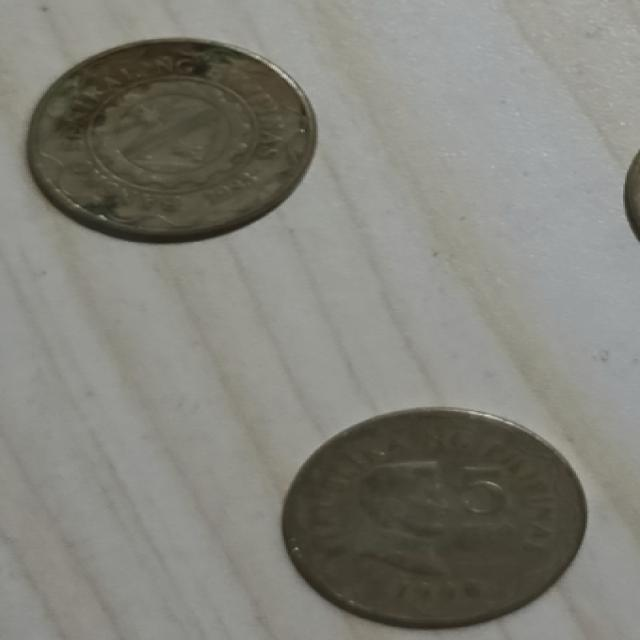5_peso: (284, 408, 584, 627), (28, 39, 314, 239)
